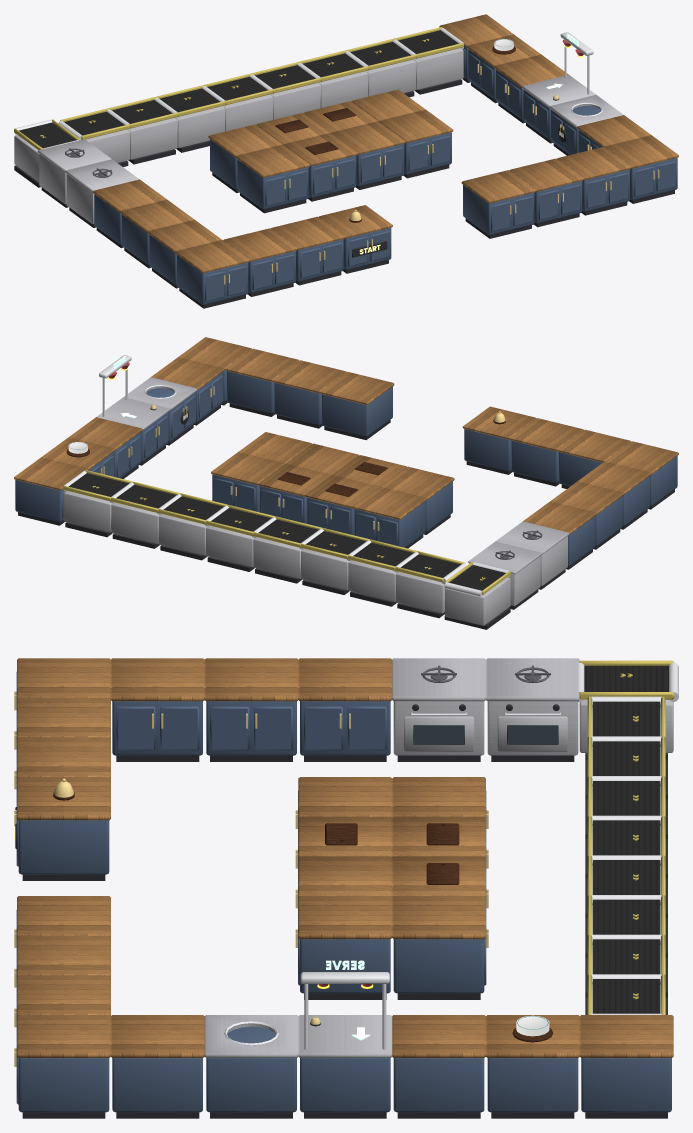
File: kr_layC_st.glb
3 views of the same model, one above another, from view 1: azimuth 30°, elevation 25°; view 2: azimuth 150°, elevation 25°; view 3: azimuth 270°, elevation 25° (orthographic). The views are drawn at different scales.
Parts seen in each view (by area): view 1: vc_m0_r4, kr_layC_st_butcher, kr_layC_st_steel, kr_layC_st_belt, vc_m8_r2, kr_layC_st_darkwood; view 2: vc_m0_r4, kr_layC_st_butcher, kr_layC_st_steel, kr_layC_st_belt, vc_m8_r2, kr_layC_st_darkwood; view 3: kr_layC_st_butcher, vc_m0_r4, kr_layC_st_steel, kr_layC_st_belt, vc_m8_r2, kr_layC_st_darkwood, vc_m8_r4.
Part boxes in pixels (x1,y1,x2,y2): vc_m0_r4: (14,27,677,308); kr_layC_st_butcher: (93,14,678,273); kr_layC_st_steel: (14,48,623,224); kr_layC_st_belt: (19,30,458,148); vc_m8_r2: (15,28,659,284); kr_layC_st_darkwood: (275,46,515,222); vc_m0_r4: (15,362,677,629); kr_layC_st_butcher: (14,337,678,534); kr_layC_st_steel: (63,377,569,625); kr_layC_st_belt: (69,473,505,590); vc_m8_r2: (63,355,509,596); kr_layC_st_darkwood: (66,420,505,496); kr_layC_st_butcher: (17,658,673,1057); vc_m0_r4: (15,660,674,1118); kr_layC_st_steel: (204,658,673,1057); kr_layC_st_belt: (584,665,668,1013); vc_m8_r2: (14,662,678,1066); kr_layC_st_darkwood: (53,792,552,1042); vc_m8_r4: (421,665,550,682).
Size of the model in its own units: 12 by 2.14 by 8.51.
Materials: 11 (4 with a texture image).
